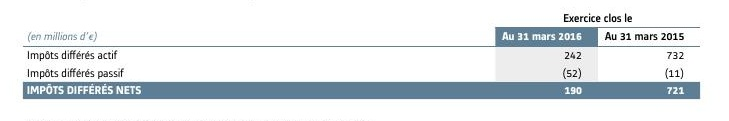table: (0, 0, 729, 121)
